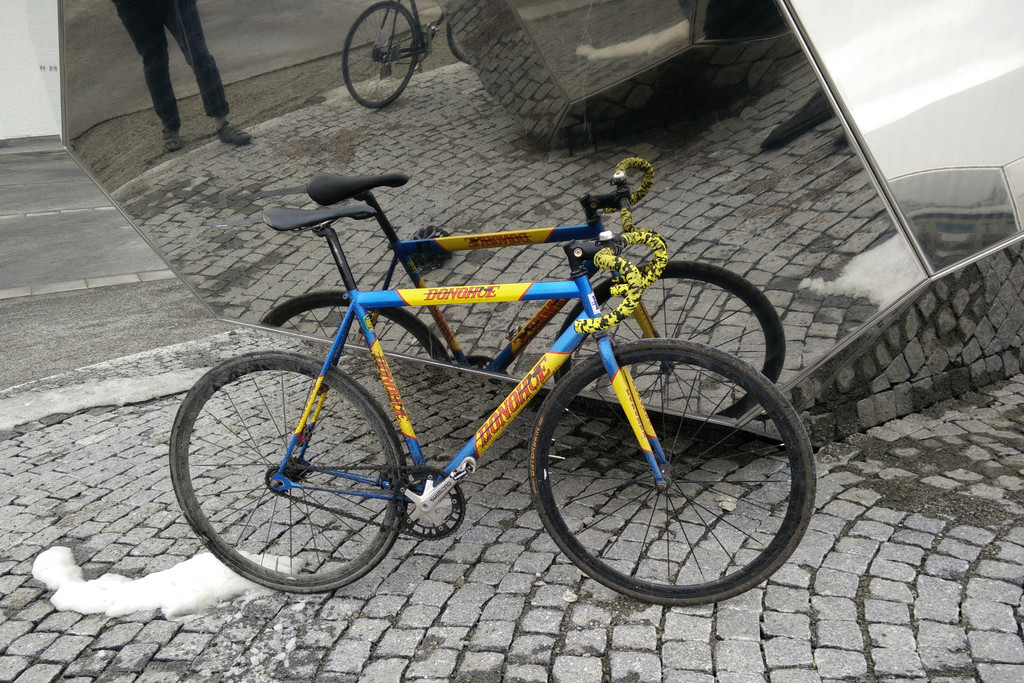Bike: (189, 213, 827, 645)
